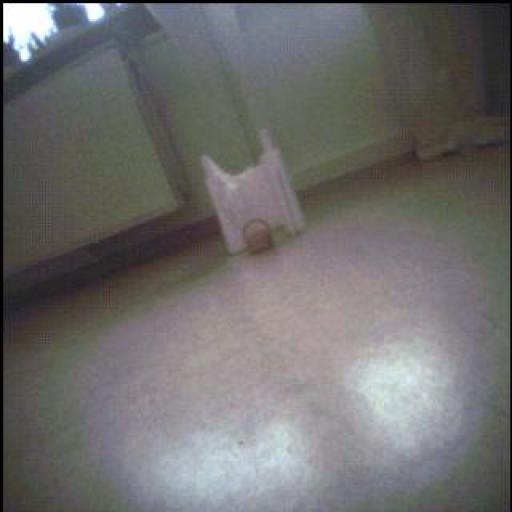Basket: (244, 221, 275, 256)
